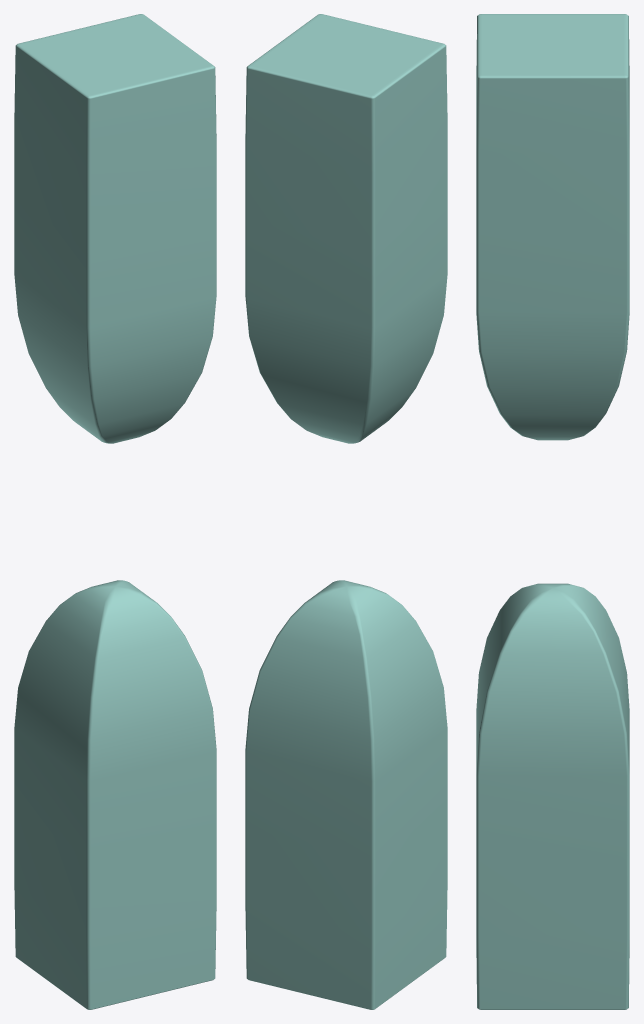
File: Inner_Railing.fbx
The picture shows the model from 3 angles, left to right: view 1: azimuth 30°, elevation 25°; view 2: azimuth 150°, elevation 25°; view 3: azimuth 270°, elevation 25°; orthographic projection. The views are drawn at different scales.
Visible parts, largest first — view 1: Inner_Railing; view 2: Inner_Railing; view 3: Inner_Railing.
Boxes of the visible parts, left/top/right/bottom form: Inner_Railing: left=14, top=14, right=216, bottom=1009; Inner_Railing: left=245, top=14, right=447, bottom=1009; Inner_Railing: left=476, top=14, right=629, bottom=1009.
Size of the model in its own units: 17.2 by 115 by 17.2.
